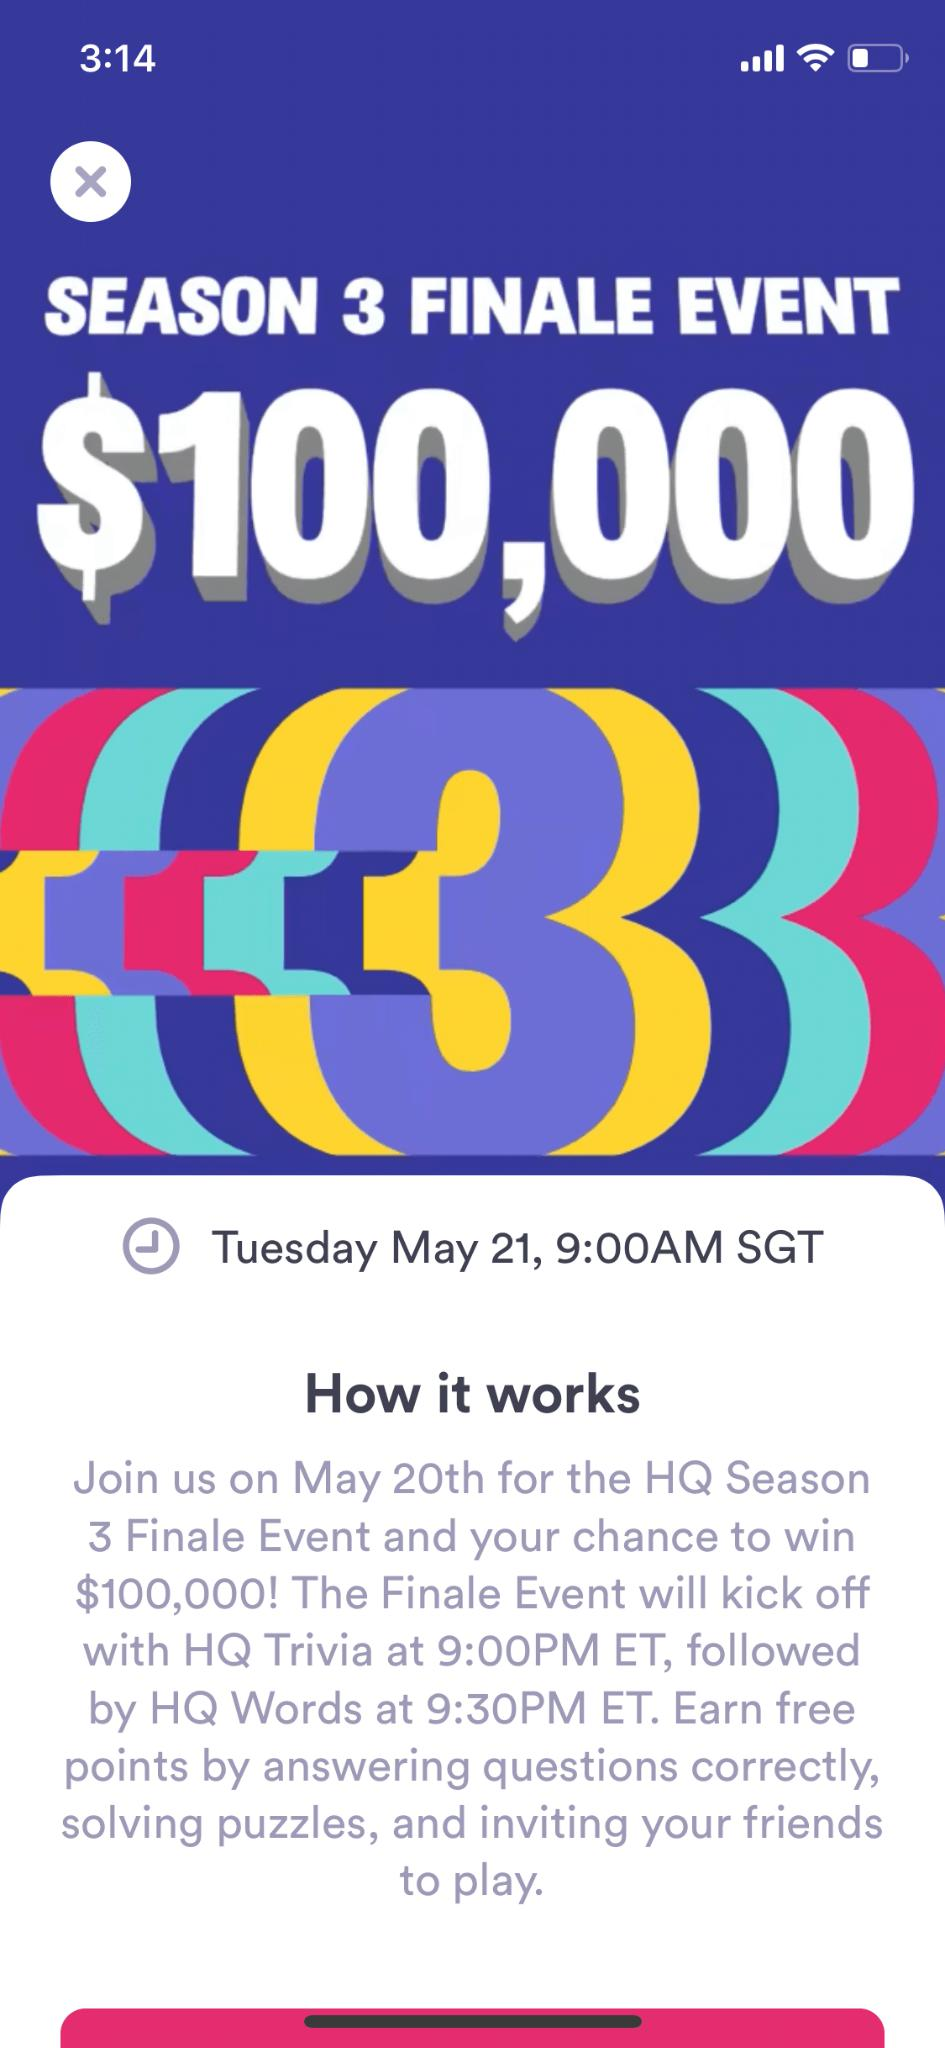Buttons: (56, 1987, 891, 2048), (40, 135, 145, 226)
